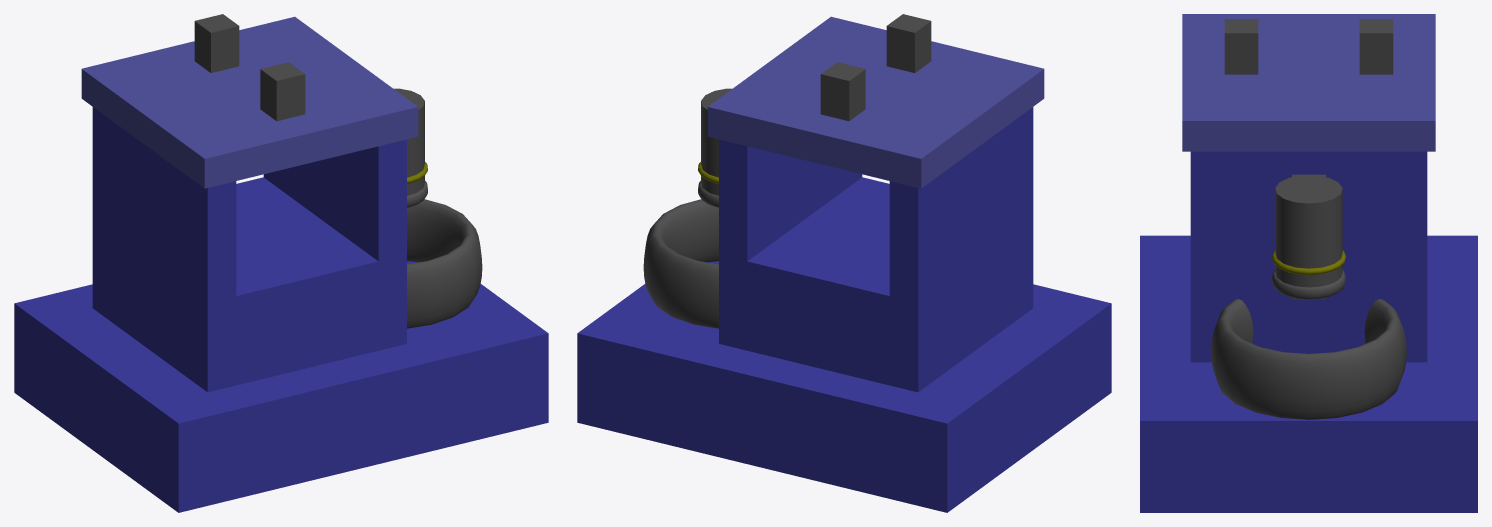
Rendered from pohsMoti.fbx.
3 renders of one model, left to right at view 1: azimuth 30°, elevation 25°; view 2: azimuth 150°, elevation 25°; view 3: azimuth 270°, elevation 25°, orthographic. The views are drawn at different scales.
Parts seen in each view (by area): view 1: pCube1, pCube10, pCube3, pCube12, pCube11, pTorus1, pCube8, pCube7, pCylinder1; view 2: pCube1, pCube10, pCube3, pCube12, pCube11, pTorus1, pCube7, pCube8, pCylinder1; view 3: pCube1, pCube3, pCube11, pTorus1, pCube10, pCylinder1, pCube7, pCube8, pTorus3, pTorus2.
Part boxes in pixels (x1,y1,x2,y2): pCube1: (14, 261, 548, 512); pCube10: (92, 177, 406, 392); pCube3: (81, 16, 418, 188); pCube12: (92, 107, 236, 302); pCube11: (263, 139, 406, 261); pTorus1: (407, 199, 482, 328); pCube8: (260, 62, 305, 121); pCube7: (194, 14, 239, 72); pCylinder1: (394, 88, 424, 195); pCube1: (577, 261, 1111, 512); pCube10: (719, 177, 1033, 392); pCube3: (707, 16, 1044, 188); pCube12: (889, 107, 1033, 302); pCube11: (719, 139, 862, 261); pTorus1: (643, 199, 718, 328); pCube7: (820, 62, 865, 121); pCube8: (886, 14, 931, 72); pCylinder1: (701, 88, 731, 195); pCube1: (1140, 235, 1477, 512); pCube3: (1182, 14, 1435, 151); pCube11: (1190, 151, 1427, 270); pTorus1: (1211, 299, 1406, 419); pCube10: (1190, 270, 1427, 362); pCylinder1: (1275, 175, 1342, 287); pCube7: (1359, 19, 1393, 74); pCube8: (1224, 19, 1258, 74); pTorus3: (1272, 269, 1345, 299); pTorus2: (1272, 250, 1345, 274).
Size of the model in its own units: 13.13 by 12.35 by 10.
